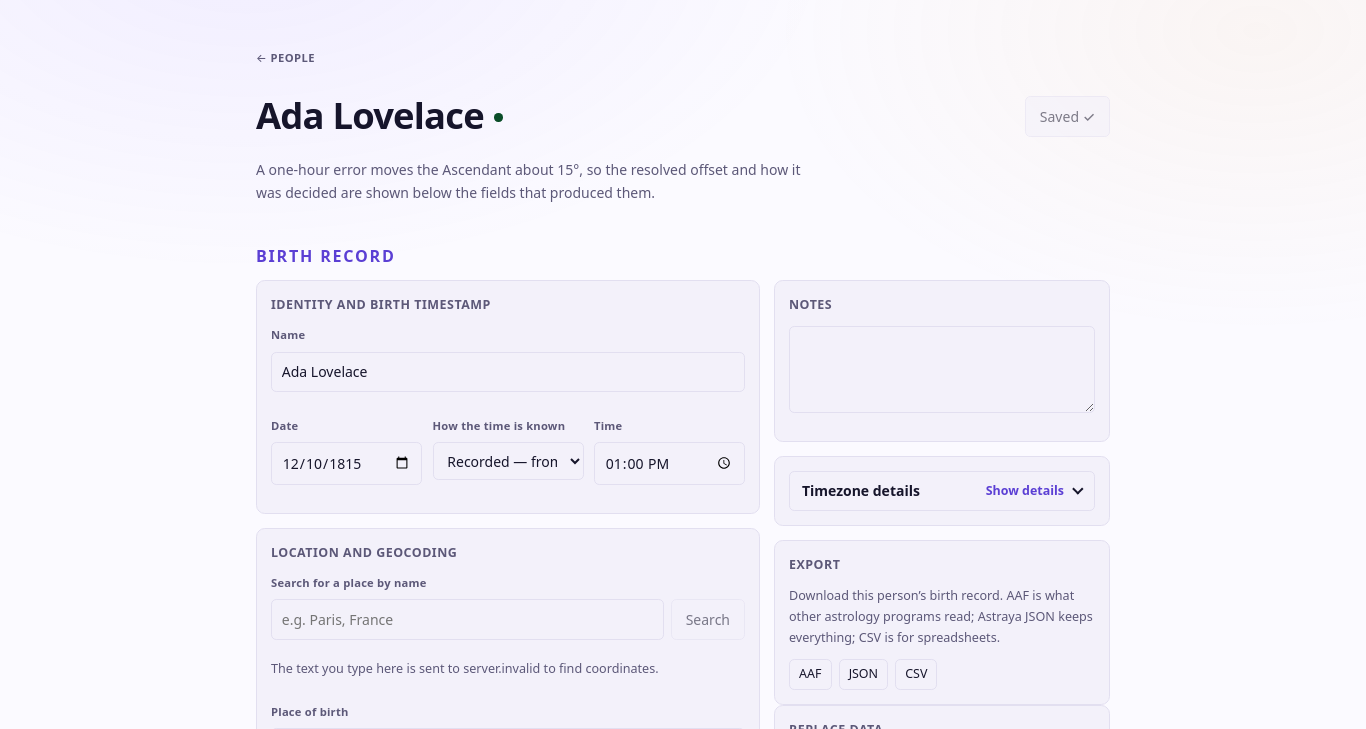
PersonForm card layout (#795) › shows the raw timezone data as a tabular value, with the overrides behind a Disclosure (D-795a)
What coordinates should you click on to do the following:
click the button "Timezone details Show details"
I would click on:
 (861, 491)
Its box is [790,472,1094,510].
(page scrolled)
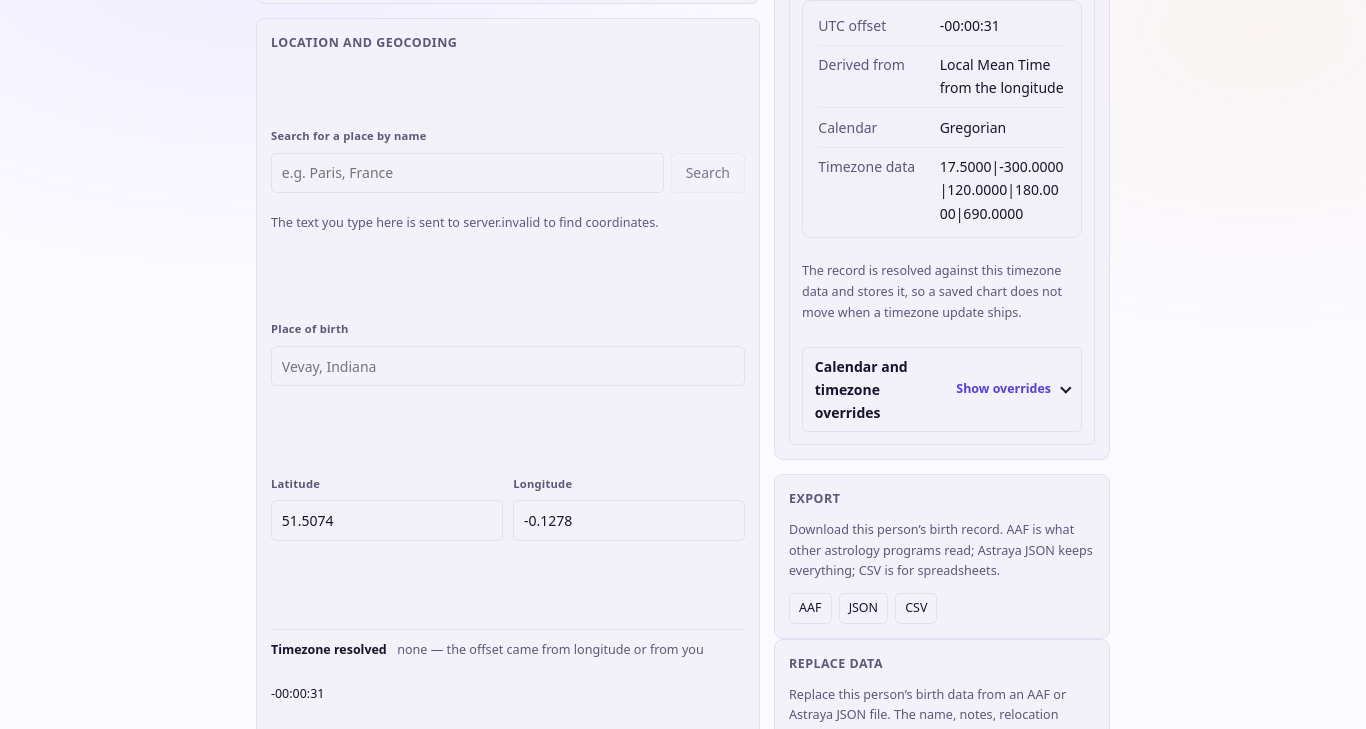
Check: the text with class "birth-record-raw" reads "17.5000|-300.0000|120.0000|180.0000|690.0000", box [940,157,1063,223]
Check: the text "Calendar and timezone overrides" is shown, box [815,357,908,422]
What coordinates should you click on to do the following:
click the button "Calendar and timezone overrides Show overrides"
I would click on:
 (861, 366)
Its box is [803,348,1081,431].
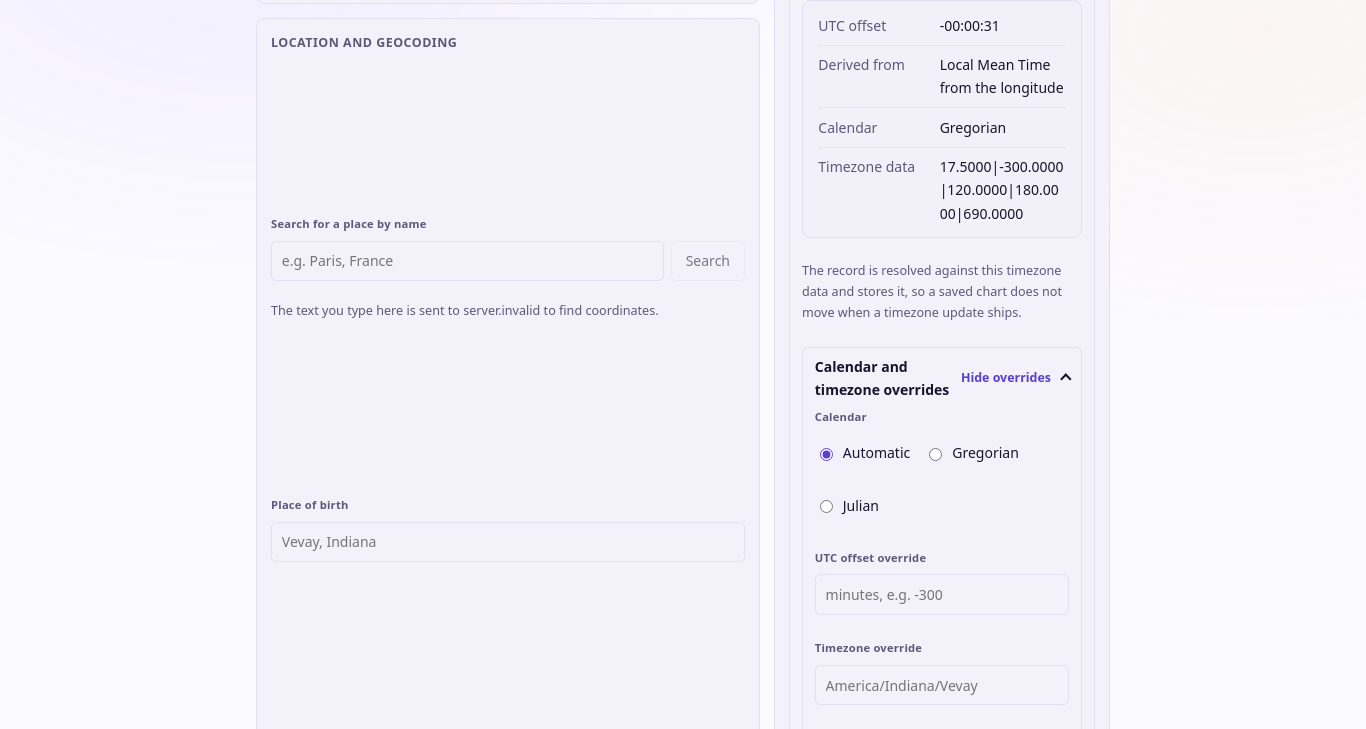
Check: the radio button labelled "Automatic" is shown, box [820,448,833,461]
